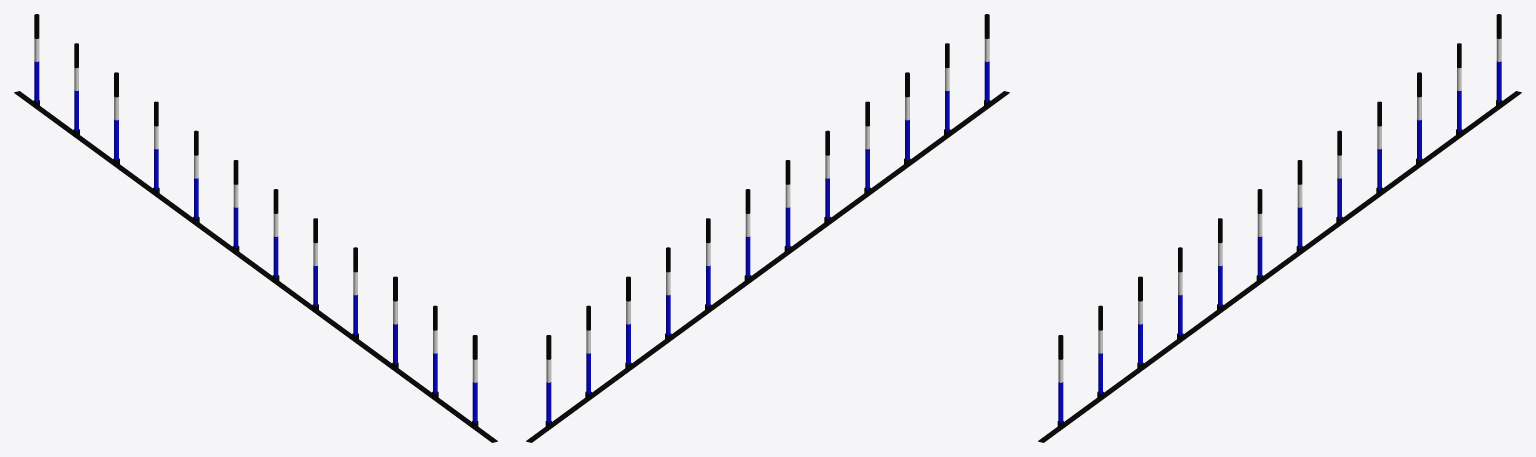
Rendered from Pole-3.dae.
3 renders of one model, left to right at view 1: azimuth 30°, elevation 25°; view 2: azimuth 150°, elevation 25°; view 3: azimuth 330°, elevation 25°, orthographic.
Size of the model in its own units: 1.97 by 283 by 30.04.
